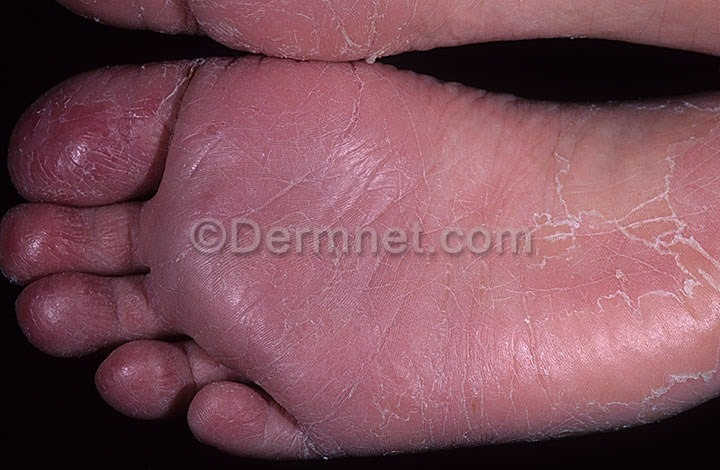Eczema: (22, 60, 720, 445), (108, 1, 484, 51)
